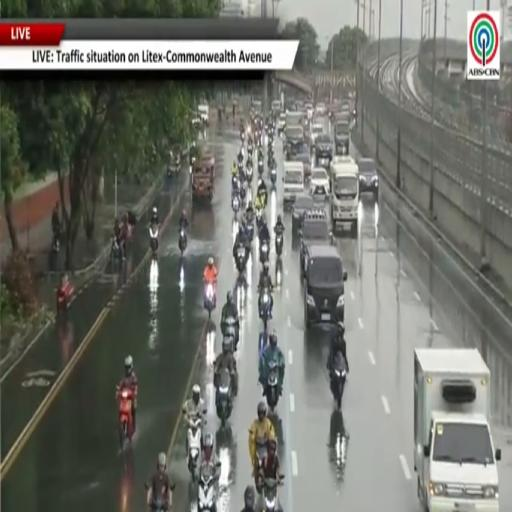car: (304, 245, 347, 328), (300, 210, 333, 276), (292, 195, 315, 232), (358, 158, 378, 199), (289, 141, 311, 177), (310, 166, 330, 198), (315, 134, 332, 166), (335, 120, 350, 154), (311, 123, 324, 147), (198, 104, 209, 125), (276, 114, 285, 136), (305, 102, 314, 120), (316, 103, 327, 116)
motorcycle: (188, 415, 203, 481), (118, 388, 134, 447), (216, 368, 232, 427), (330, 355, 346, 409), (198, 464, 216, 511), (265, 361, 279, 411), (222, 316, 239, 353), (263, 478, 281, 511), (259, 288, 272, 331), (56, 282, 73, 314), (255, 438, 267, 473), (204, 283, 215, 318), (111, 236, 122, 262), (236, 246, 246, 274), (149, 224, 158, 254), (258, 331, 268, 357), (274, 233, 284, 257), (260, 240, 269, 264), (179, 229, 187, 255), (246, 219, 254, 242), (258, 189, 267, 208), (232, 195, 240, 215), (51, 235, 59, 253), (256, 210, 262, 229), (270, 168, 276, 187), (246, 166, 253, 182), (232, 175, 239, 190), (240, 184, 246, 201), (258, 159, 263, 175), (248, 143, 253, 155), (238, 162, 243, 174), (240, 131, 245, 142)
truck: (414, 348, 501, 511), (330, 157, 359, 236)
